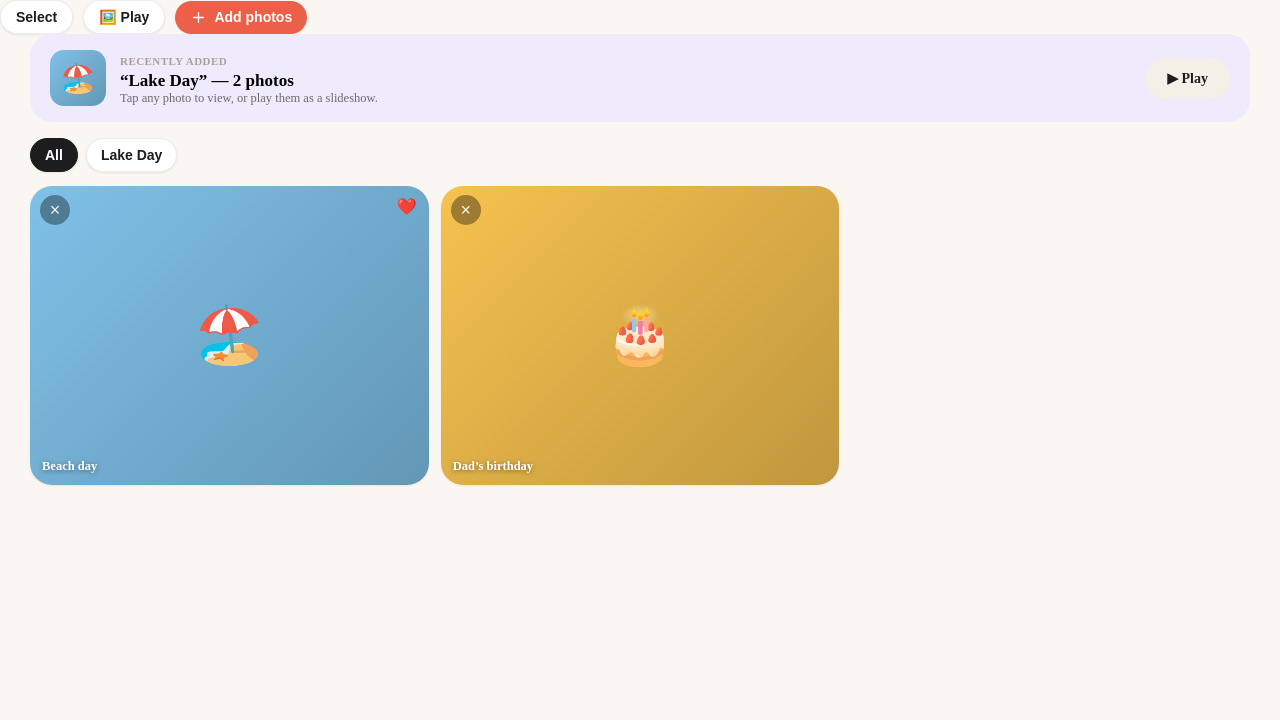
Test: Photos home (family wall) › opens the photo detail with details (no reactions)
The image size is (1280, 720).
Click the text "Beach day" at (70, 466), box [42, 459, 97, 474]
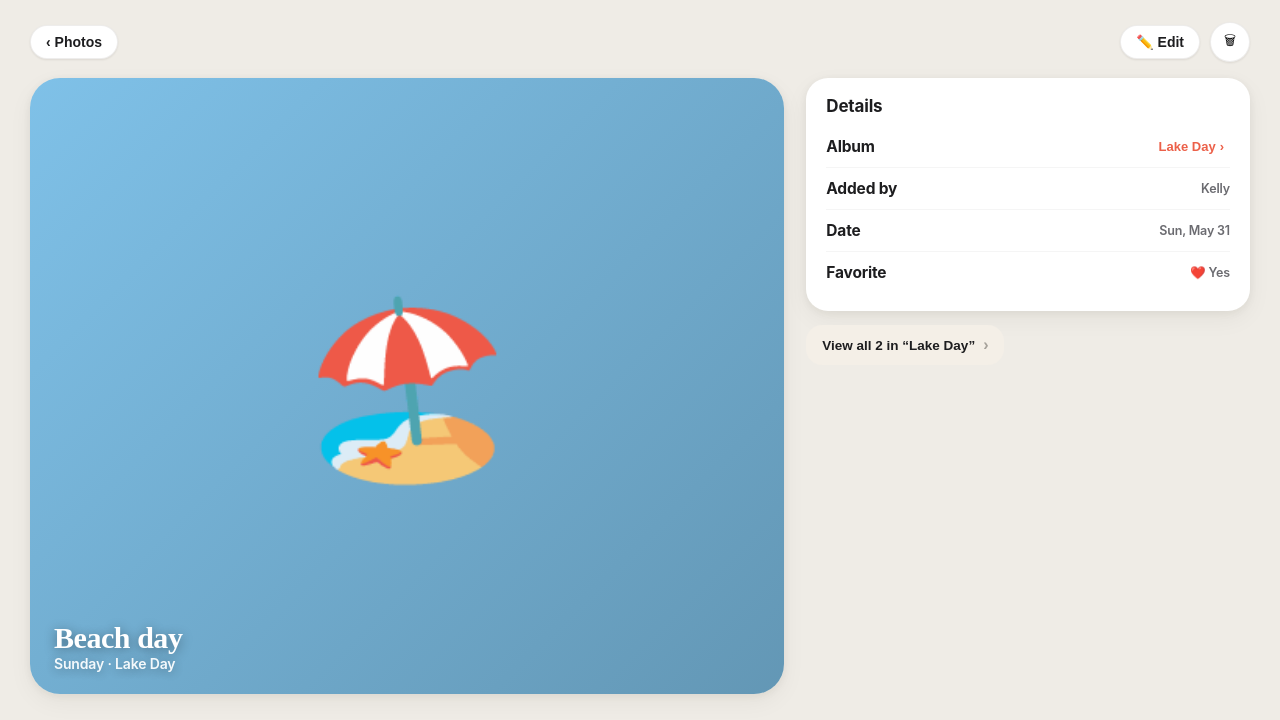
Check: the text "Details" is shown, box [826, 96, 882, 116]
Check: the text "Kelly" is shown, box [1201, 181, 1230, 196]
Check: the text "View all 2 in “Lake Day”" is shown, box [822, 338, 975, 352]
